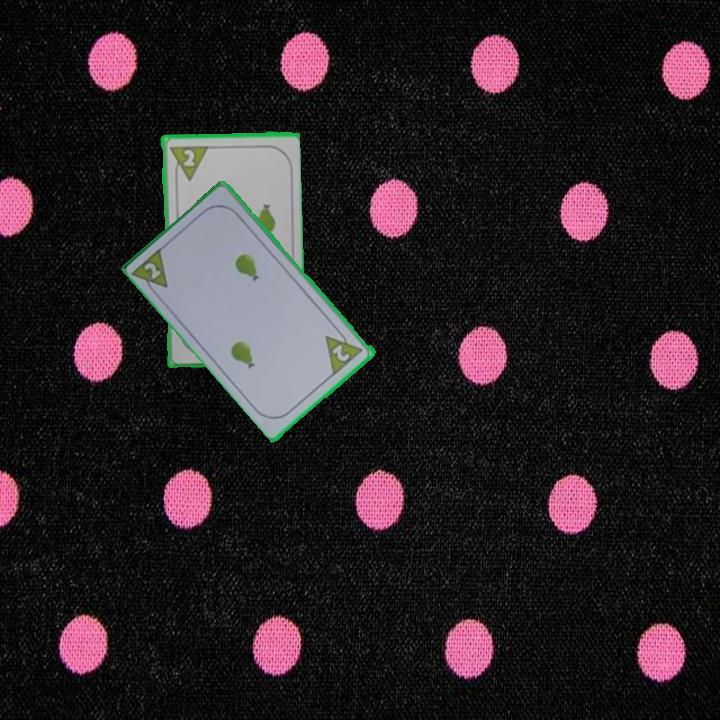2p: (165, 142, 209, 183), (329, 341, 353, 365), (141, 259, 164, 282)
